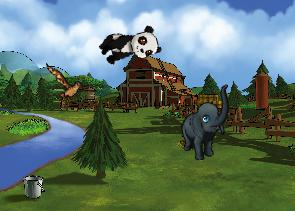eagle: (40, 63, 92, 106)
elephant: (173, 84, 241, 163)
panda: (96, 23, 162, 69)
